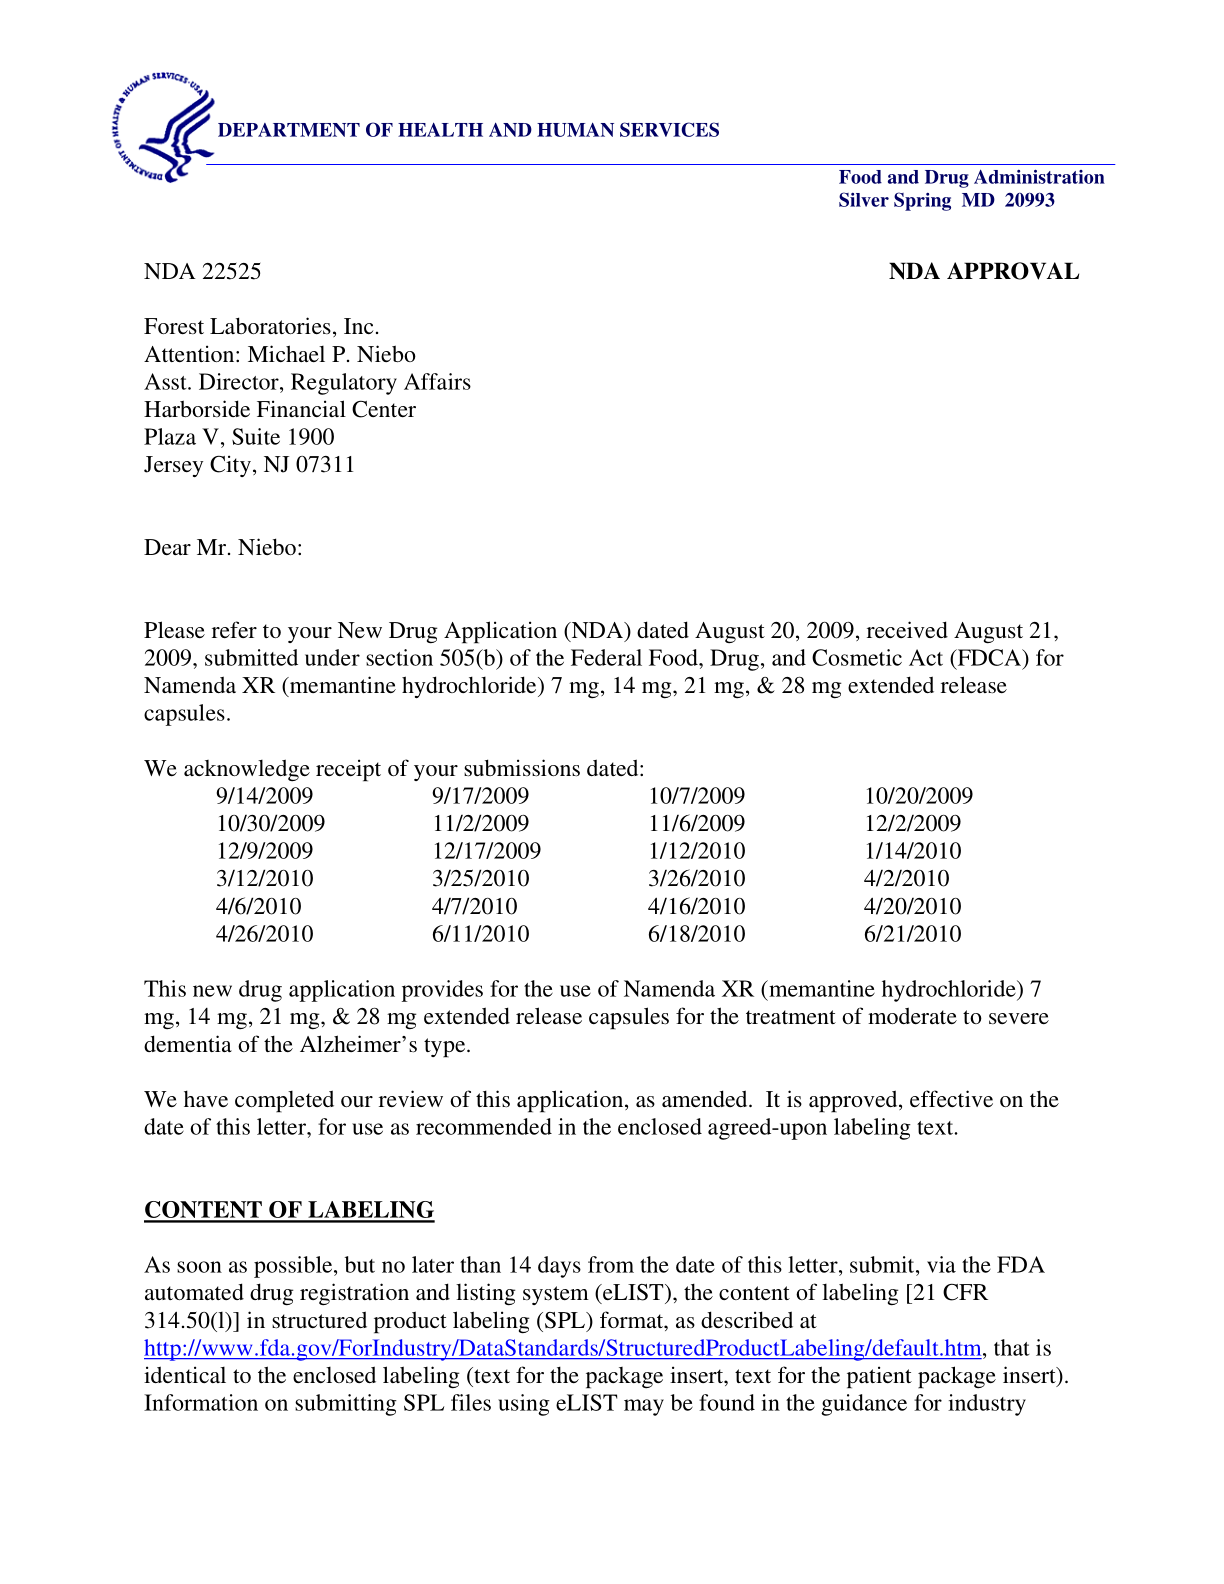nolines: (213, 782, 975, 945)
